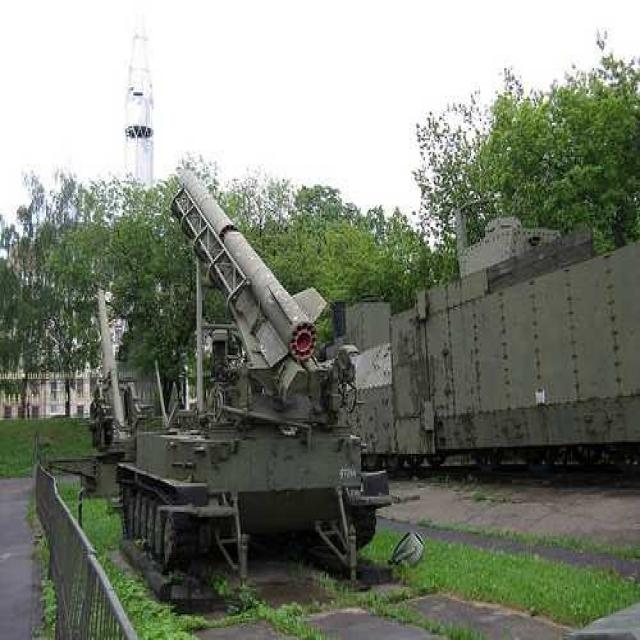missile: (167, 162, 318, 361), (97, 280, 134, 435)
